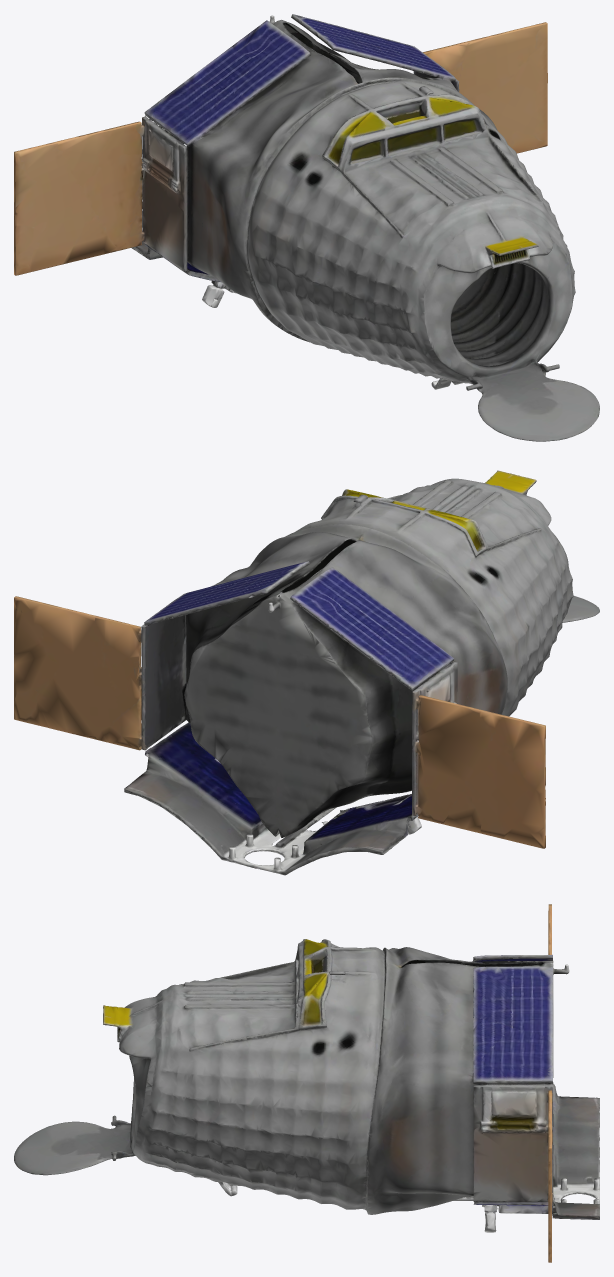
Rendered from castor.glb.
3 views of the same model, one above another, from view 1: azimuth 30°, elevation 25°; view 2: azimuth 150°, elevation 25°; view 3: azimuth 270°, elevation 25° (orthographic). The views are drawn at different scales.
Size of the model in its own units: 1.87 by 0.8789 by 1.9.
Materials: 1 (1 with a texture image).
